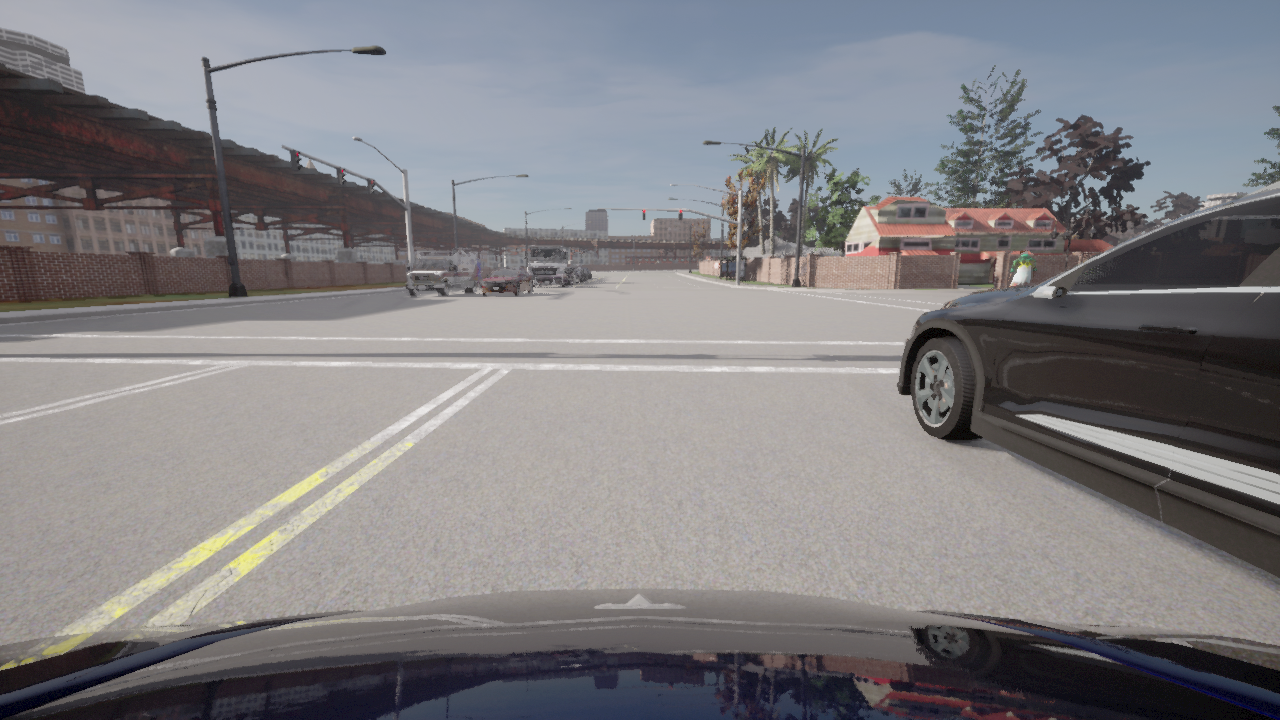cyclist: (0, 588, 1279, 719), (897, 181, 1279, 577), (405, 250, 482, 296), (524, 244, 574, 287), (481, 267, 532, 296), (570, 265, 584, 281), (567, 268, 577, 283), (583, 268, 590, 279)
pedestrian: (1007, 248, 1037, 286)
